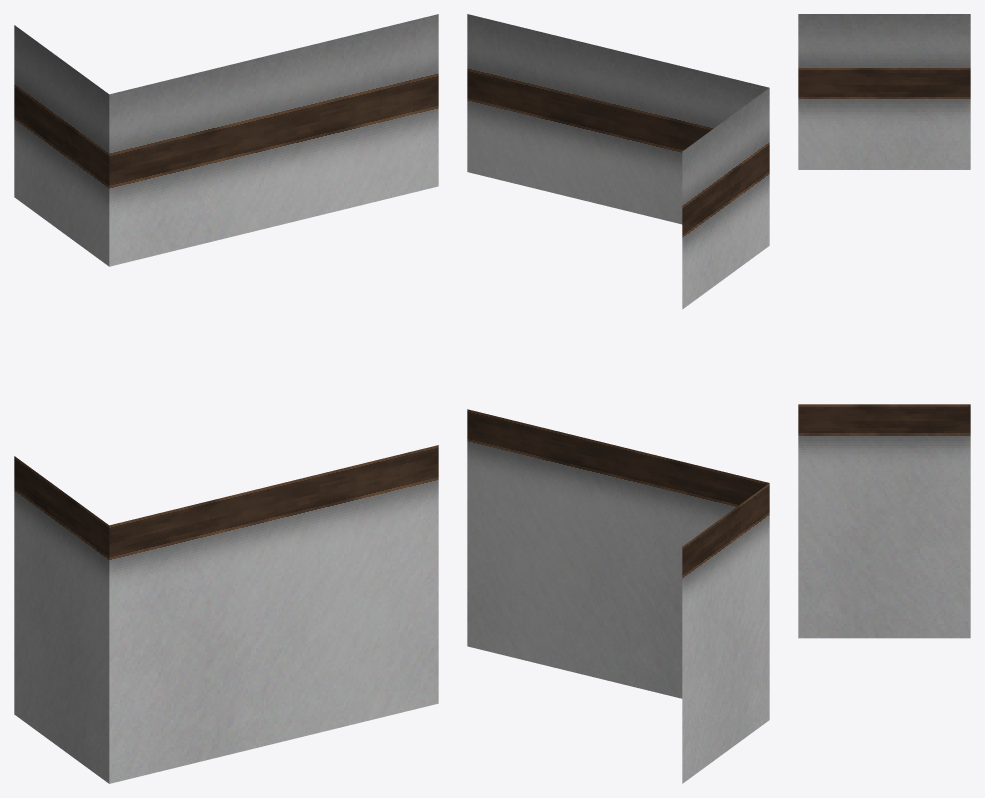
File: house_big_window_wall_b_corner_1_inside.glb
3 renders of one model, left to right at view 1: azimuth 30°, elevation 25°; view 2: azimuth 150°, elevation 25°; view 3: azimuth 270°, elevation 25°, orthographic. The views are drawn at different scales.
Parts seen in each view (by area): view 1: house_big_window_wall_b_corner_1_inside; view 2: house_big_window_wall_b_corner_1_inside; view 3: house_big_window_wall_b_corner_1_inside.
Boxes of the visible parts, x1,y1,x2,y2 form: house_big_window_wall_b_corner_1_inside: (14,14,438,783); house_big_window_wall_b_corner_1_inside: (467,14,769,783); house_big_window_wall_b_corner_1_inside: (798,14,970,638).
Bounding box in the file's own units: 2 × 4 × 1.
Materials: 1 (1 with a texture image).
